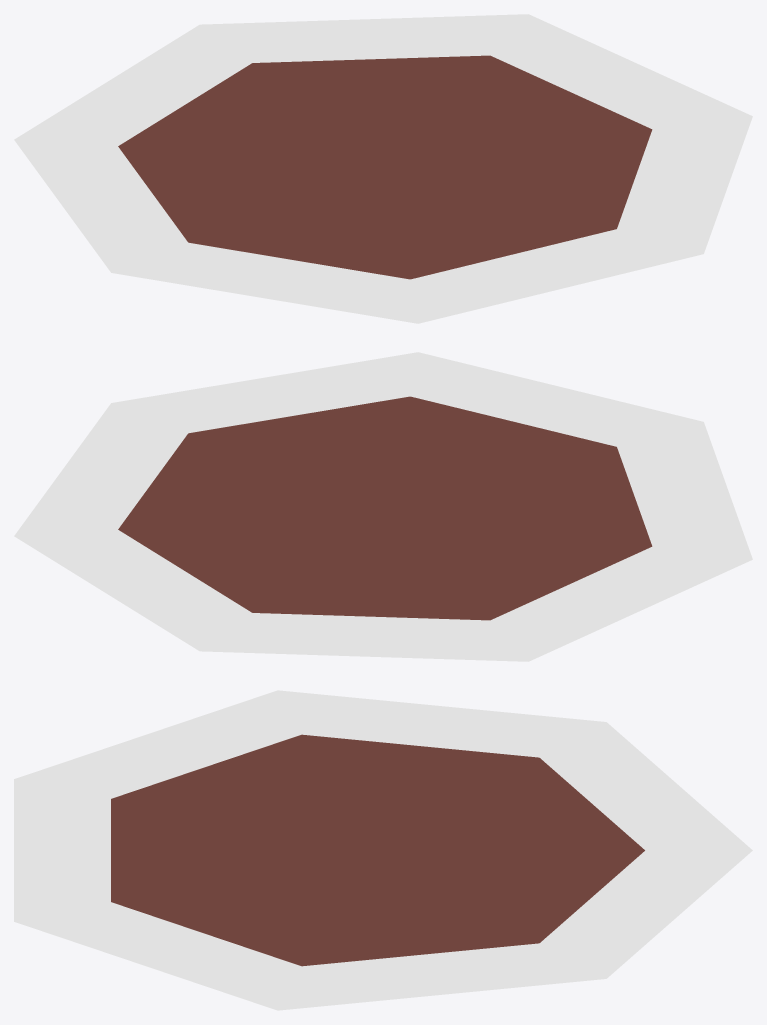
Rendered from floorHexa.fbx.
3 views of the same model, one above another, from view 1: azimuth 30°, elevation 25°; view 2: azimuth 150°, elevation 25°; view 3: azimuth 270°, elevation 25° (orthographic). The views are drawn at different scales.
Visible parts, largest first — view 1: Circle.027; view 2: Circle.027; view 3: Circle.027.
Boxes of the visible parts, x1,y1,x2,y2 form: Circle.027: (14, 14, 752, 323); Circle.027: (14, 352, 752, 661); Circle.027: (14, 690, 752, 1010).
Size of the model in its own units: 5160 by 0.00114 by 5031.
